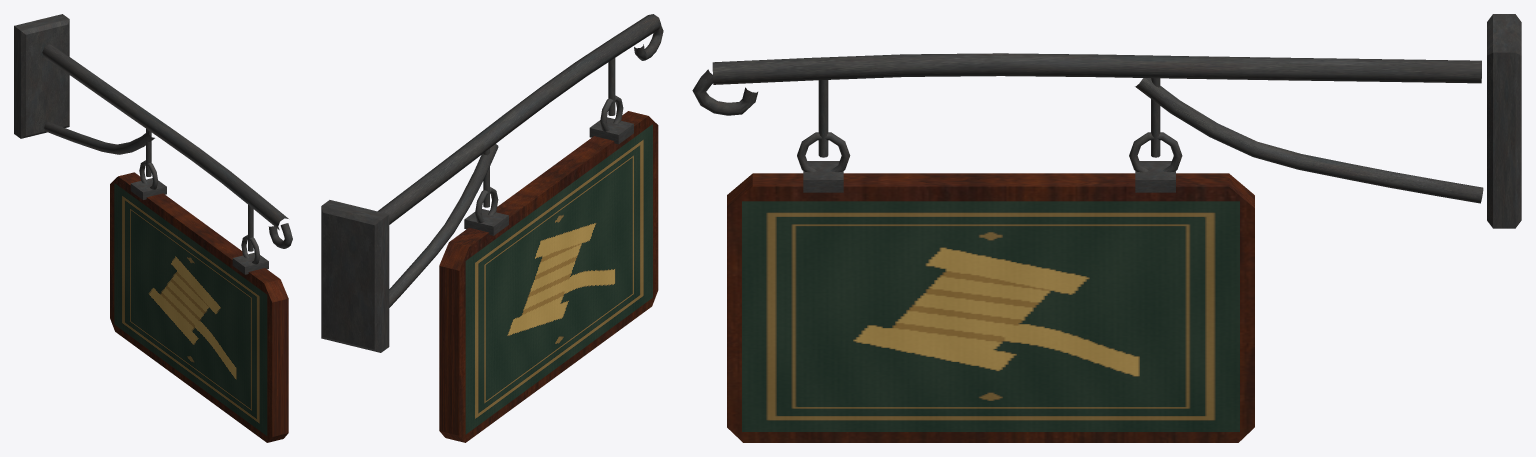
File: city1880-hanging-sign-goods.gltf
3 renders of one model, left to right at view 1: azimuth 30°, elevation 25°; view 2: azimuth 150°, elevation 25°; view 3: azimuth 270°, elevation 25°, orthographic. The views are drawn at different scales.
Parts seen in each view (by area): view 1: Hanging shop sign · cloth spool; view 2: Hanging shop sign · cloth spool; view 3: Hanging shop sign · cloth spool.
Boxes of the visible parts, x1=… form: Hanging shop sign · cloth spool: x1=14, y1=14, x2=292, y2=442; Hanging shop sign · cloth spool: x1=321, y1=14, x2=663, y2=442; Hanging shop sign · cloth spool: x1=692, y1=14, x2=1521, y2=442.
Size of the model in its own units: 0.106 by 0.5155 by 0.9609.
2 materials, 2 textured.
